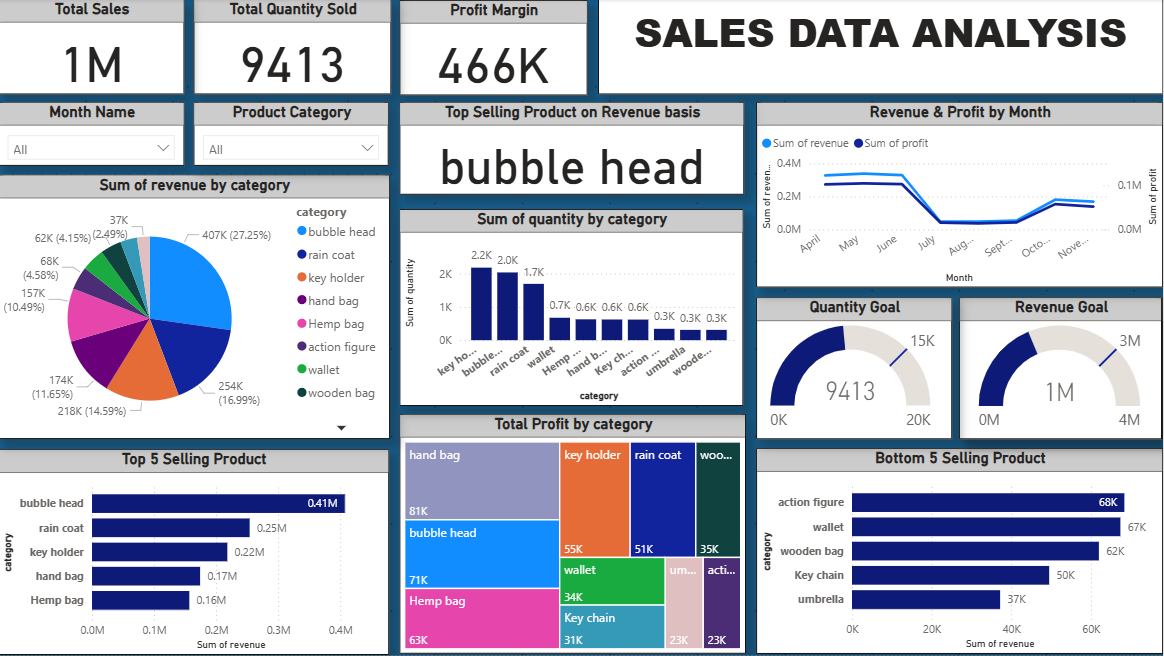

This screenshot's page, from the dashboard's own definition file:
{"tool":"powerbi","page":{"name":"Page 1","canvas":[1280,720],"ordinal":0},"visuals":[{"type":"card","title":"Profit Margin","fields":{"Values":["Sum(Data.profit)"]},"box":[441.7,1.4,206.6,104.6],"z":0},{"type":"card","title":"Total Quantity Sold","fields":{"Values":["Sum(Data.quantity)"]},"box":[214.7,0,217.4,104.6],"z":1000},{"type":"card","title":"Total Sales","fields":{"Values":["Sum(Data.revenue)"]},"box":[0,0,205.2,104.6],"z":2000},{"type":"textbox","box":[659.1,0,621,104.6],"z":3000},{"type":"slicer","title":"Month Name","fields":{"Values":["Data.Month Name"]},"box":[0,112.8,205.2,70.7],"z":4000},{"type":"clusteredBarChart","title":"Top 5 Selling Product","fields":{"Category":["Data.category"],"Y":["Sum(Data.revenue)"]},"box":[0,494.7,429.4,225.6],"z":5000},{"type":"treemap","title":"Total Profit by category","fields":{"Group":["Data.category"],"Values":["Sum(Data.profit)"]},"box":[441.2,456.5,381.2,263.6],"z":6000},{"type":"pieChart","fields":{"Category":["Data.category"],"Y":["Sum(Data.revenue)"]},"box":[0,193,430.8,290.8],"z":7000},{"type":"slicer","title":"Product Category","fields":{"Values":["Data.category"]},"box":[214.7,112.8,214.7,70.7],"z":8000},{"type":"clusteredBarChart","title":"Bottom 5 Selling Product","fields":{"Category":["Data.category"],"Y":["Sum(Data.revenue)"]},"box":[833,494.2,447.1,225.9],"z":9000},{"type":"columnChart","fields":{"Category":["Data.category"],"Y":["Sum(Data.quantity)"]},"box":[441.7,231,377.8,216.1],"z":10000},{"type":"gauge","fields":{"Y":["Sum(Data.revenue)"]},"box":[1056.6,328.1,223.5,156],"z":11000},{"type":"gauge","title":"Revenue Goal","fields":{"Y":["Sum(Data.revenue)"]},"box":[1056.5,328.1,223.5,156],"z":12000},{"type":"gauge","title":"Quantity Goal","fields":{"Y":["Sum(Data.quantity)"]},"box":[833,328.3,215.3,155.3],"z":13000},{"type":"lineChart","title":"Revenue & Profit by Month","fields":{"Y2":["Sum(Data.profit)"],"Y":["Sum(Data.revenue)"],"Category":["Data.date.Variation.Date Hierarchy.Month"]},"box":[833,112.6,447.1,204.2],"z":14000},{"type":"card","title":"Top Selling Product on Revenue basis","fields":{"Values":["Data.Top_selling_product_revenue"]},"box":[441.7,112.8,379.1,101.9],"z":15000}]}

Visuals, with their boxes in screenshot pixels (x1, y1, x2, y2), scaled from the page's 1280x720 canvas onto the 1164x656 screenshot:
"Profit Margin" card: (left=402, top=1, right=590, bottom=97)
"Total Quantity Sold" card: (left=195, top=0, right=393, bottom=95)
"Total Sales" card: (left=0, top=0, right=187, bottom=95)
textbox: (left=599, top=0, right=1163, bottom=95)
"Month Name" slicer: (left=0, top=103, right=187, bottom=167)
"Top 5 Selling Product" clusteredBarChart: (left=0, top=451, right=390, bottom=655)
"Total Profit by category" treemap: (left=401, top=416, right=748, bottom=655)
pieChart - Data.category x Sum(Data.revenue): (left=0, top=176, right=392, bottom=441)
"Product Category" slicer: (left=195, top=103, right=390, bottom=167)
"Bottom 5 Selling Product" clusteredBarChart: (left=758, top=450, right=1163, bottom=655)
columnChart - Data.category x Sum(Data.quantity): (left=402, top=210, right=745, bottom=407)
gauge - Sum(Data.revenue): (left=961, top=299, right=1163, bottom=441)
"Revenue Goal" gauge: (left=961, top=299, right=1163, bottom=441)
"Quantity Goal" gauge: (left=758, top=299, right=953, bottom=441)
"Revenue & Profit by Month" lineChart: (left=758, top=103, right=1163, bottom=289)
"Top Selling Product on Revenue basis" card: (left=402, top=103, right=746, bottom=196)
